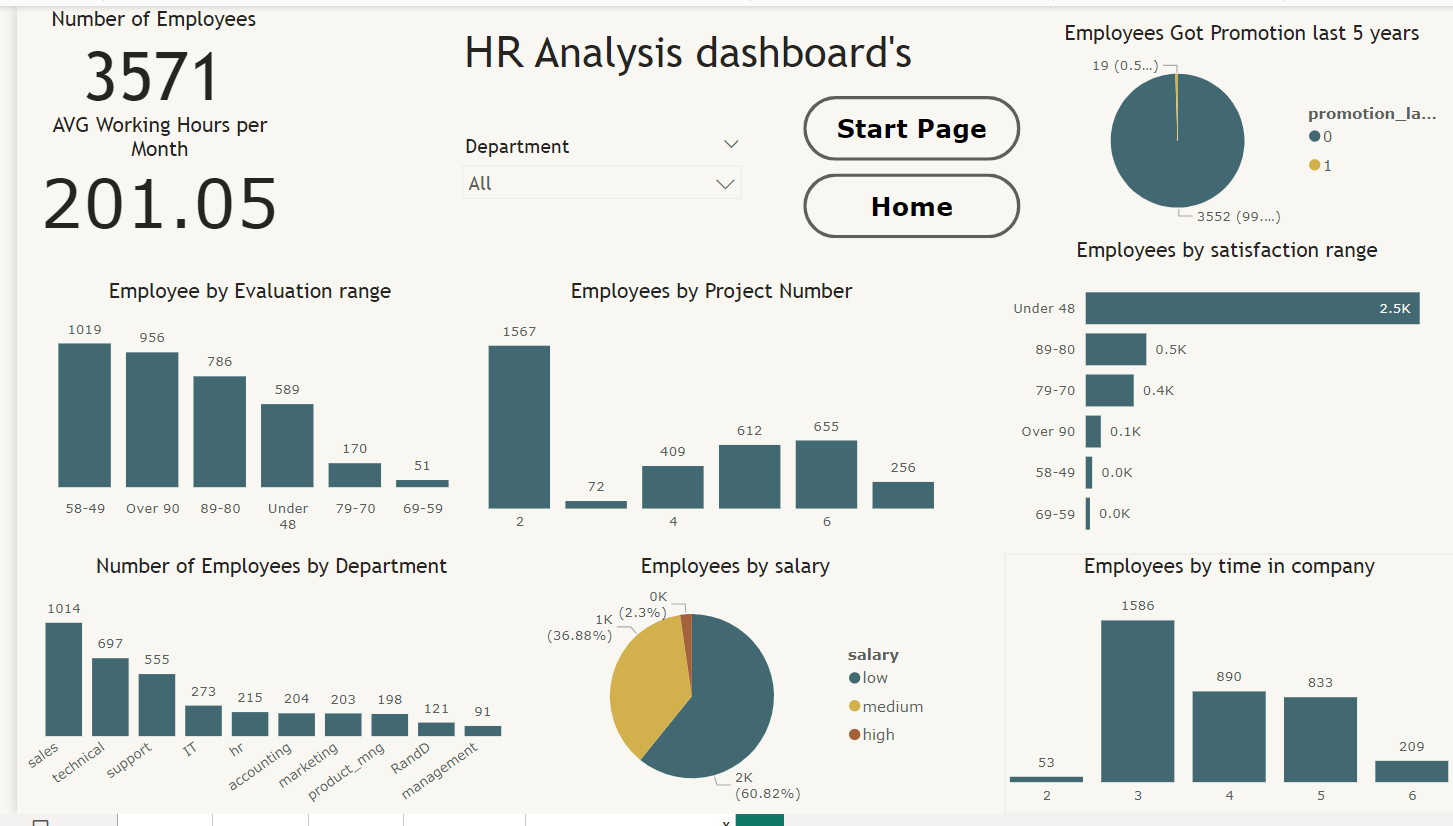

This screenshot's page, from the dashboard's own definition file:
{"tool":"powerbi","page":{"name":"dashboard","canvas":[1280,720],"ordinal":3},"visuals":[{"type":"textbox","box":[242.5,12.1,720.2,66.4],"z":0},{"type":"card","title":"Number of Employees","fields":{"Values":["employees.Employees stay Count"]},"box":[1.2,0,241.3,94.1],"z":1000},{"type":"columnChart","title":"Number of Employees by Department","fields":{"Category":["employees.Department"],"Y":["employees.Employees stay Count"]},"box":[0,487.4,453.6,232.8],"z":2000},{"type":"pieChart","title":"Employees by salary","fields":{"Category":["employees.salary"],"Y":["employees.Employees stay Count"]},"box":[457.2,487.4,364.3,232.8],"z":3000},{"type":"clusteredColumnChart","title":"Employees by time in company","fields":{"Category":["employees.time_spend_company"],"Y":["employees.Employees stay Count"]},"box":[879.5,487.4,400.5,232.8],"z":4000},{"type":"card","title":"AVG Working Hours per Month","fields":{"Values":["Avg(employees.average_montly_hours)"]},"box":[0,94.1,254.6,112.2],"z":5000},{"type":"columnChart","title":"Employee by Evaluation range","fields":{"Category":["employees.Evaluation range"],"Y":["employees.Employees stay Count"]},"box":[0,242.5,415,234],"z":6000},{"type":"barChart","title":"Employees by satisfaction range","fields":{"Category":["employees.satisfaction range"],"Y":["employees.Employees stay Count"]},"box":[874.7,206.3,405.4,281.1],"z":7000},{"type":"pieChart","title":"Employees Got Promotion last 5 years ","fields":{"Category":["employees.promotion_last_5years"],"Y":["employees.Employees stay Count"]},"box":[913.3,12.1,355.9,194.2],"z":8000},{"type":"slicer","fields":{"Values":["employees.Department"]},"box":[386.1,109.8,269,83.2],"z":9000},{"type":"clusteredColumnChart","title":"Employees by Project Number","fields":{"Y":["employees.Employees stay Count"],"Category":["employees.number_project"]},"box":[415,242.5,406.6,234],"z":10000},{"type":"actionButton","box":[681.1,151.8,193.5,57.8],"z":11000},{"type":"actionButton","box":[681.1,81.9,193.5,57.8],"z":11001}]}

Visuals, with their boxes in screenshot pixels (x1, y1, x2, y2), scaled from the page's 1280x720 canvas onto the 1453x826 screenshot:
textbox: [275, 14, 1093, 90]
"Number of Employees" card: [1, 0, 275, 108]
"Number of Employees by Department" columnChart: [0, 559, 515, 825]
"Employees by salary" pieChart: [519, 559, 933, 825]
"Employees by time in company" clusteredColumnChart: [998, 559, 1452, 825]
"AVG Working Hours per Month" card: [0, 108, 289, 237]
"Employee by Evaluation range" columnChart: [0, 278, 471, 547]
"Employees by satisfaction range" barChart: [993, 237, 1452, 559]
"Employees Got Promotion last 5 years " pieChart: [1037, 14, 1441, 237]
slicer - employees.Department: [438, 126, 744, 221]
"Employees by Project Number" clusteredColumnChart: [471, 278, 933, 547]
actionButton: [773, 174, 993, 240]
actionButton: [773, 94, 993, 160]
